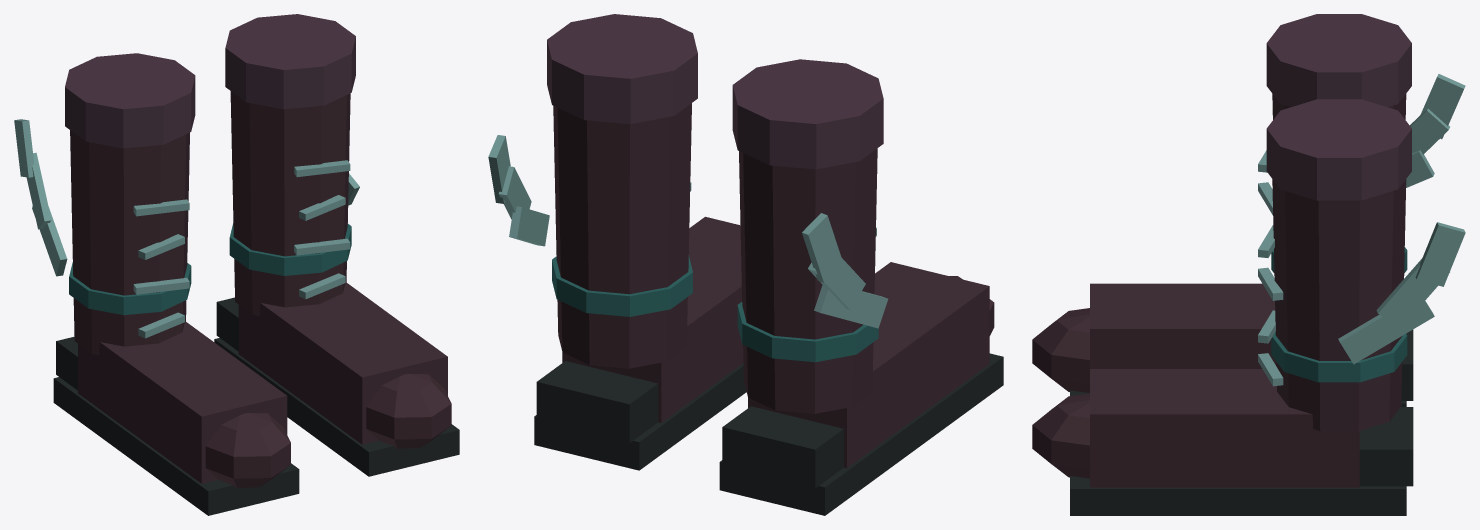
The model's file is swift_boots.glb.
3 renders of one model, left to right at view 1: azimuth 30°, elevation 25°; view 2: azimuth 150°, elevation 25°; view 3: azimuth 270°, elevation 25°, orthographic. The views are drawn at different scales.
Parts seen in each view (by area): view 1: Ghete; view 2: Ghete; view 3: Ghete.
Boxes of the visible parts, x1,y1,x2,y2 form: Ghete: [14, 14, 459, 515]; Ghete: [488, 14, 1003, 515]; Ghete: [1032, 14, 1465, 515].
Bounding box in the file's own units: 0.2802 × 0.2975 × 0.3217.
